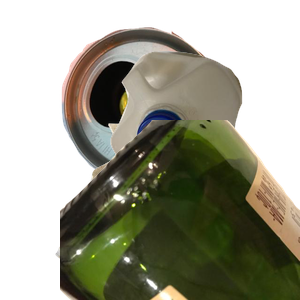glass: (60, 120, 300, 300)
metal: (59, 10, 273, 189)
plastic: (108, 49, 300, 226)
trash: (53, 121, 239, 300)
